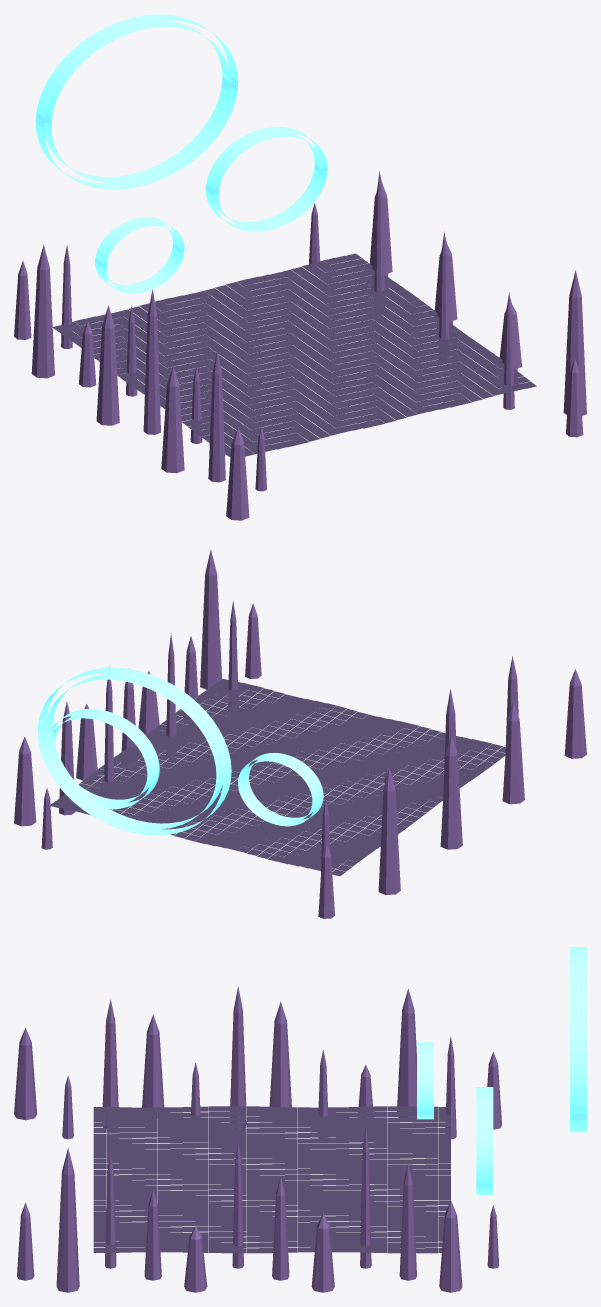
Rendered from collapse_dimension.glb.
The picture shows the model from 3 angles, top to bottom: view 1: azimuth 30°, elevation 25°; view 2: azimuth 150°, elevation 25°; view 3: azimuth 270°, elevation 25°; orthographic projection. The views are drawn at different scales.
Visible parts, largest first — view 1: Fallen asymmetric reality pavement, Fractured dimensional sky spires, Hanging luminous split reality rift structures; view 2: Fallen asymmetric reality pavement, Fractured dimensional sky spires, Hanging luminous split reality rift structures; view 3: Fallen asymmetric reality pavement, Fractured dimensional sky spires, Hanging luminous split reality rift structures.
Part boxes in pixels (<box>): Fallen asymmetric reality pavement: <box>52,253,536,457</box>; Fractured dimensional sky spires: <box>14,171,586,520</box>; Hanging luminous split reality rift structures: <box>35,14,327,293</box>; Fallen asymmetric reality pavement: <box>50,679,505,876</box>; Fractured dimensional sky spires: <box>14,549,586,918</box>; Hanging luminous split reality rift structures: <box>37,667,323,835</box>; Fallen asymmetric reality pavement: <box>93,1106,450,1253</box>; Fractured dimensional sky spires: <box>14,986,501,1292</box>; Hanging luminous split reality rift structures: <box>417,947,586,1194</box>.
Bounding box in the file's own units: 50.66 × 31.37 × 67.36.
